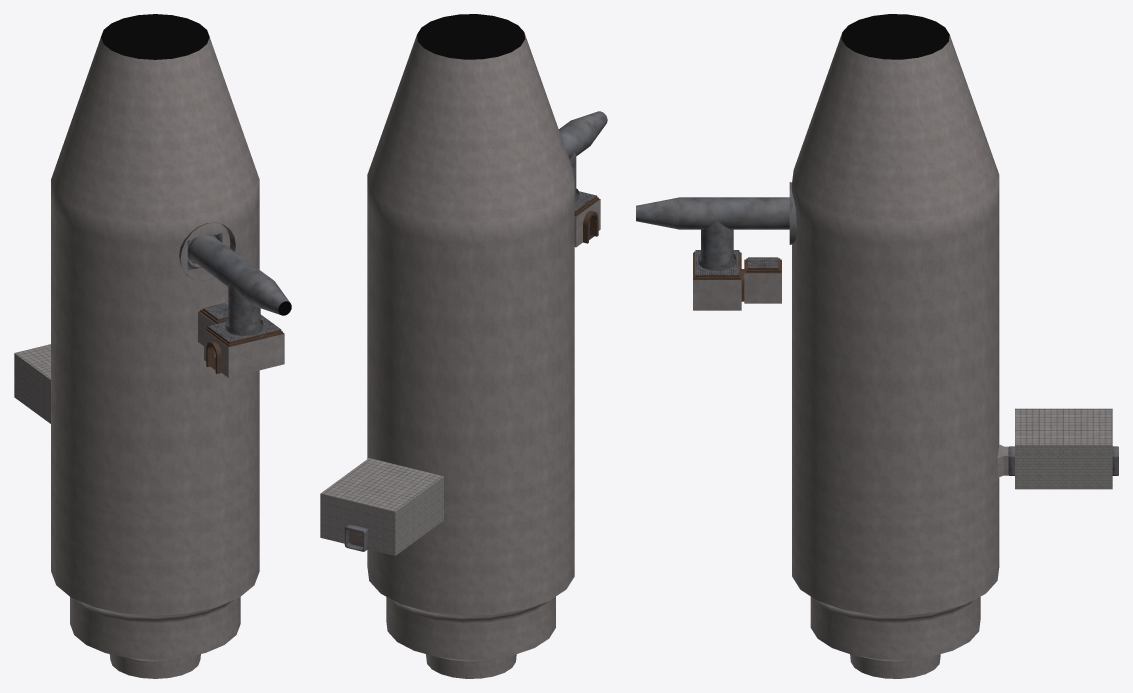
File: HeistShaft.fbx
The picture shows the model from 3 angles, left to right: view 1: azimuth 30°, elevation 25°; view 2: azimuth 150°, elevation 25°; view 3: azimuth 270°, elevation 25°; orthographic projection.
Visible parts, largest first — view 1: HeistShaft; view 2: HeistShaft; view 3: HeistShaft.
Boxes of the visible parts, x1,y1,x2,y2 form: HeistShaft: (14,14,291,678); HeistShaft: (320,14,607,678); HeistShaft: (636,14,1118,678).
Bounding box in the file's own units: 38.3 × 127 × 89.17.
